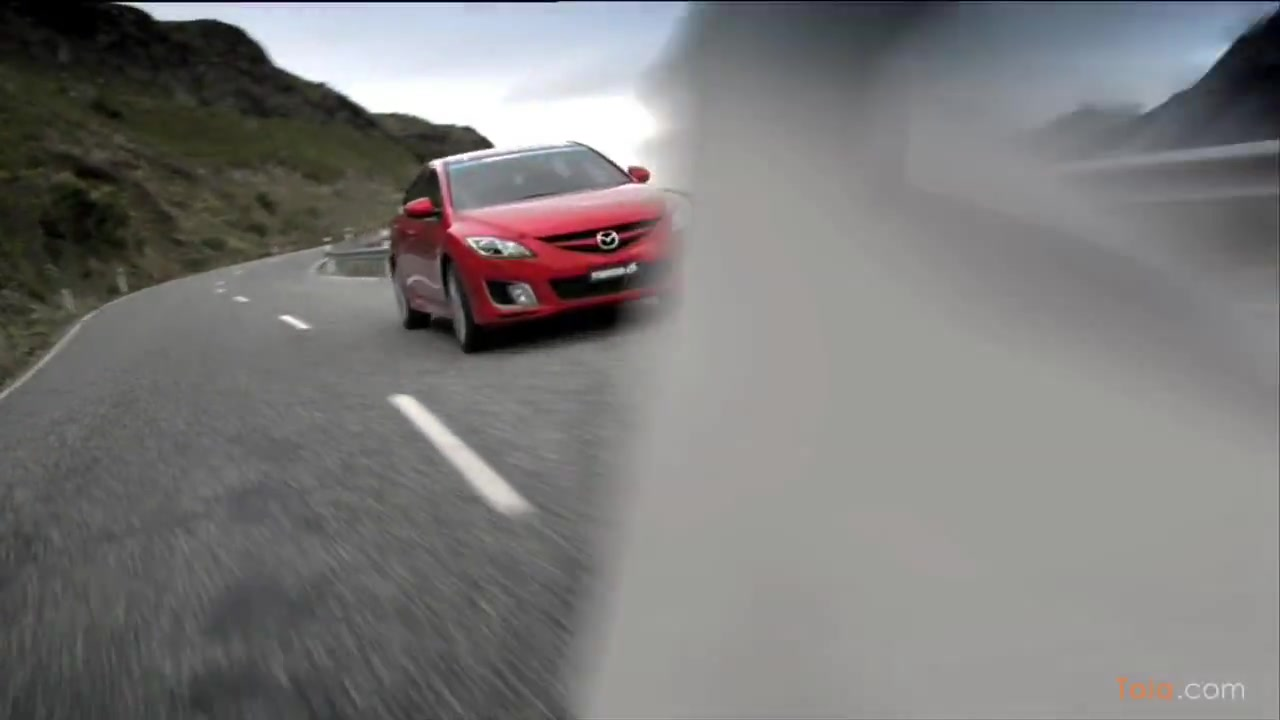car: (383, 142, 694, 356)
